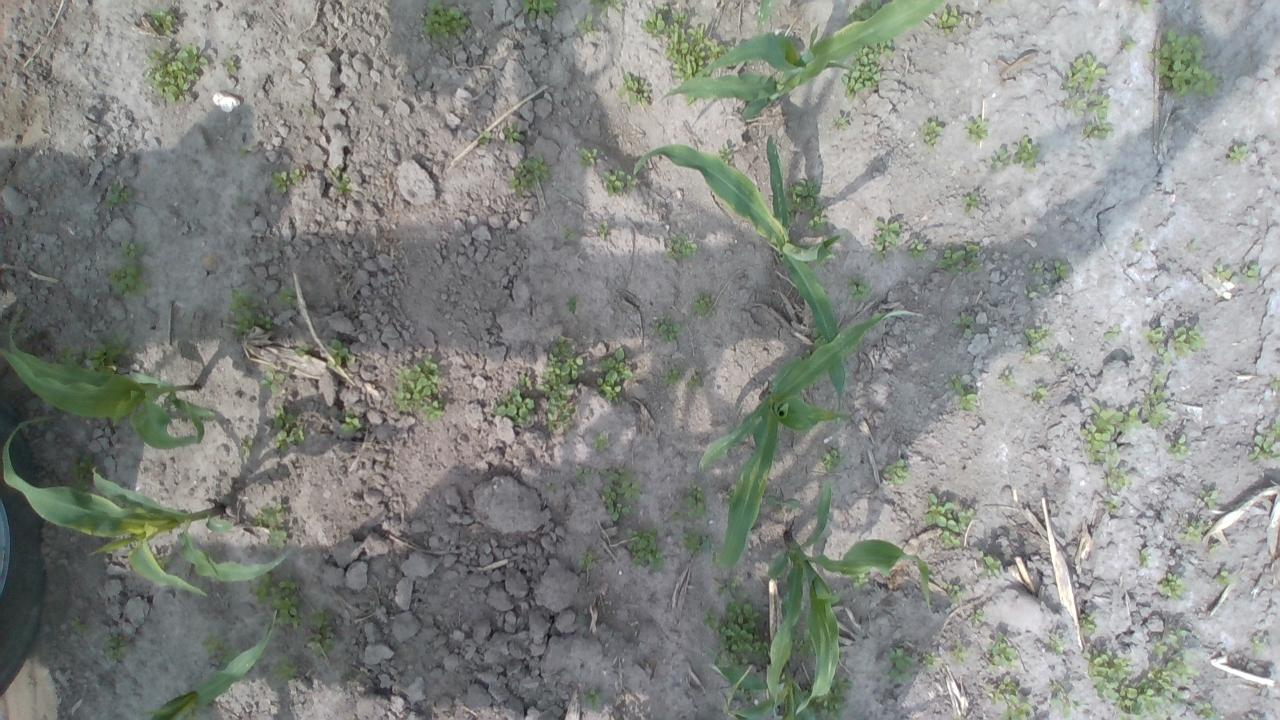Maize: (633, 124, 848, 416), (701, 302, 922, 572), (0, 408, 289, 600), (769, 486, 930, 720), (658, 0, 946, 121), (0, 337, 216, 451), (138, 612, 280, 720), (710, 657, 816, 720)
Weeds: (643, 1, 732, 82), (1146, 27, 1223, 100), (1118, 651, 1199, 715), (702, 599, 770, 672), (540, 335, 584, 432), (1080, 400, 1142, 463), (146, 44, 204, 106), (392, 354, 442, 422), (839, 37, 895, 96), (924, 491, 976, 548), (251, 570, 301, 624), (422, 0, 475, 41), (596, 348, 633, 406), (1060, 48, 1105, 95), (109, 242, 147, 297), (1086, 650, 1130, 696), (810, 677, 856, 720), (230, 288, 272, 334), (270, 404, 308, 452), (626, 526, 666, 571), (88, 330, 130, 371), (1247, 415, 1280, 466), (507, 155, 551, 192), (304, 608, 336, 658), (490, 388, 534, 424), (936, 241, 983, 274), (1146, 370, 1173, 427), (254, 502, 286, 548), (784, 178, 823, 214), (601, 484, 633, 522), (1062, 94, 1112, 118), (948, 373, 978, 412), (1172, 324, 1206, 358), (202, 634, 238, 666), (870, 220, 900, 258), (602, 468, 642, 496), (1024, 324, 1056, 358), (620, 71, 652, 105), (1012, 136, 1042, 172), (989, 631, 1018, 668), (886, 646, 915, 680), (1144, 326, 1169, 365), (666, 230, 698, 260), (684, 480, 708, 520), (146, 6, 178, 36), (602, 168, 640, 193), (649, 312, 680, 342), (1152, 630, 1186, 657), (682, 526, 711, 557), (70, 454, 94, 490), (1051, 690, 1080, 718), (850, 0, 882, 25), (258, 368, 288, 394), (963, 116, 992, 142), (272, 654, 297, 684), (1178, 518, 1204, 546), (936, 8, 962, 36), (789, 628, 815, 656), (268, 168, 298, 192), (1082, 118, 1114, 140), (1166, 433, 1193, 459), (325, 339, 352, 365), (847, 277, 875, 302), (102, 633, 127, 661), (519, 0, 560, 17), (951, 311, 976, 337), (105, 182, 130, 208), (329, 168, 354, 194), (691, 292, 714, 320), (1161, 570, 1184, 598), (806, 313, 826, 345), (1104, 470, 1134, 491), (885, 458, 908, 485), (56, 344, 82, 367), (768, 494, 801, 512), (590, 0, 624, 17), (922, 120, 944, 146), (68, 616, 94, 638), (1004, 697, 1028, 720), (341, 408, 361, 433), (1228, 142, 1250, 164), (580, 688, 602, 710), (277, 285, 298, 308), (992, 681, 1016, 701), (906, 239, 928, 259), (1240, 261, 1258, 285), (1078, 614, 1096, 638), (821, 449, 841, 470), (504, 122, 524, 143), (578, 147, 599, 167), (982, 554, 1002, 574), (1195, 701, 1216, 720), (1052, 258, 1070, 280), (757, 1, 774, 24), (990, 148, 1009, 168), (1198, 488, 1217, 508), (718, 576, 741, 592), (592, 431, 611, 450), (662, 367, 681, 386), (576, 14, 594, 34), (154, 553, 175, 570), (1102, 325, 1120, 343), (1216, 261, 1232, 281), (808, 216, 828, 232), (578, 550, 594, 570), (964, 189, 979, 210), (1032, 382, 1048, 401), (239, 437, 255, 456), (718, 144, 733, 164), (948, 583, 962, 604), (1250, 638, 1266, 656), (1136, 548, 1150, 568), (1024, 285, 1041, 301), (998, 369, 1014, 386), (222, 56, 237, 74), (950, 646, 966, 662), (1105, 497, 1121, 513), (853, 572, 869, 588), (1137, 0, 1153, 15), (688, 372, 704, 387), (574, 466, 590, 481), (1216, 569, 1230, 586), (970, 609, 984, 626), (832, 116, 848, 130), (566, 294, 578, 312), (112, 496, 129, 508), (12, 328, 26, 342), (238, 144, 252, 158), (1125, 38, 1138, 52), (922, 653, 936, 666), (1270, 374, 1280, 392), (479, 130, 494, 142), (1027, 262, 1042, 273), (561, 229, 576, 240), (724, 486, 734, 502), (518, 373, 530, 386), (670, 510, 681, 522), (686, 95, 697, 106), (1133, 241, 1143, 252), (1054, 351, 1064, 361), (1051, 642, 1060, 653), (295, 346, 305, 355), (1039, 280, 1048, 289), (598, 224, 606, 234)
